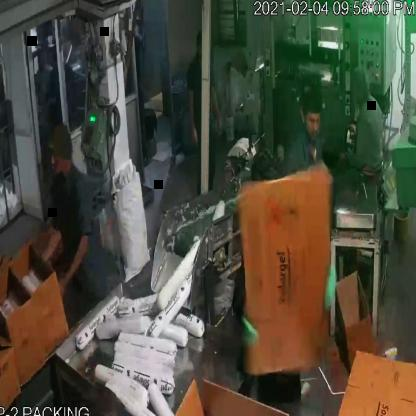no_glove: (57, 219, 89, 296), (32, 210, 63, 270), (187, 78, 204, 154), (206, 76, 225, 136), (0, 344, 6, 402)
